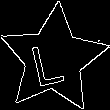L_N: (33, 31, 74, 87)
